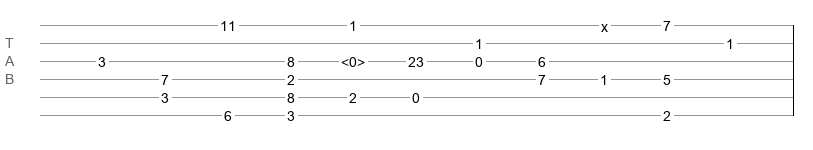0: (412, 90, 420, 100), (475, 54, 483, 64)
1: (349, 18, 357, 28), (475, 36, 483, 46), (600, 72, 608, 82), (726, 36, 734, 46)
11: (220, 18, 236, 28)
2: (287, 72, 295, 82), (349, 90, 357, 100), (663, 108, 671, 118)
23: (408, 54, 424, 64)
3: (98, 54, 106, 64), (161, 90, 169, 100), (287, 108, 295, 118)
5: (663, 72, 671, 82)
6: (224, 108, 232, 118), (538, 54, 546, 64)
7: (161, 72, 169, 82), (538, 72, 546, 82), (663, 18, 671, 28)
8: (287, 90, 295, 100), (287, 54, 295, 64)
harmonic: (341, 54, 365, 64)
x: (601, 19, 608, 27)
